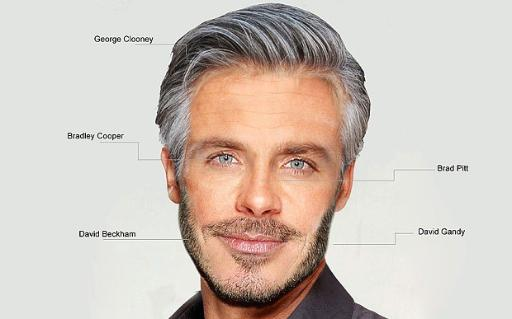left_eye: (283, 159, 320, 175)
left_lip_corner: (275, 236, 293, 247)
right_eye: (207, 152, 243, 169)
right_lip_corner: (214, 232, 232, 244)
